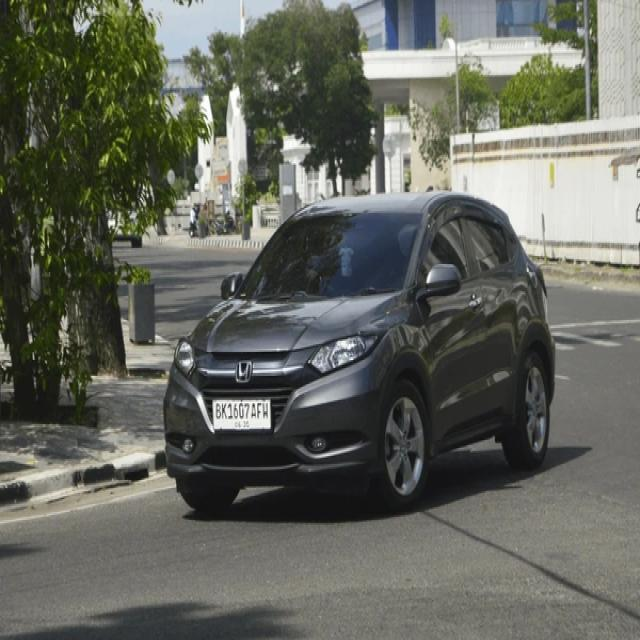honda: (230, 358, 259, 385)
